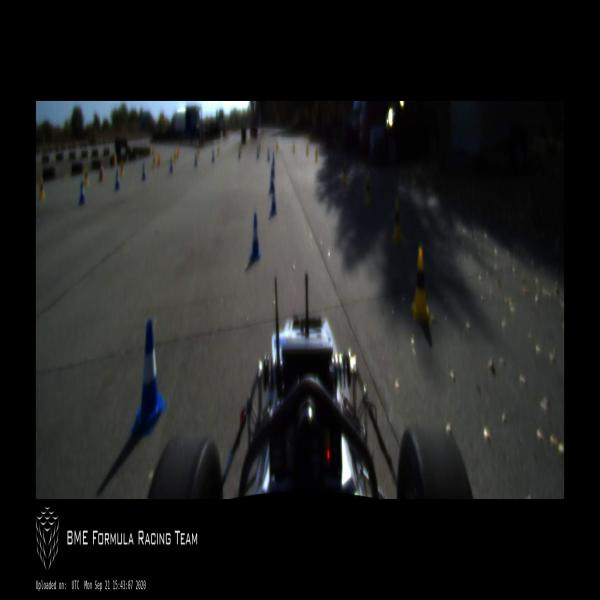blue_cone: (130, 318, 166, 436), (250, 212, 261, 262), (270, 188, 276, 214), (79, 180, 85, 205), (114, 170, 120, 190), (270, 172, 274, 193), (142, 163, 146, 180)
yellow_cone: (412, 247, 429, 321), (392, 200, 402, 242), (364, 173, 372, 204), (39, 176, 45, 199), (342, 162, 347, 186), (84, 167, 88, 186), (120, 160, 124, 175)
